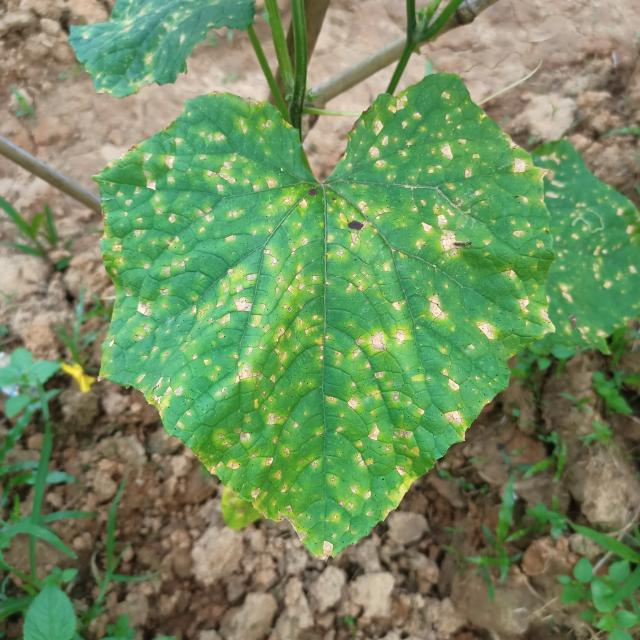disease_cucumber: (104, 95, 540, 527), (532, 141, 640, 347)
